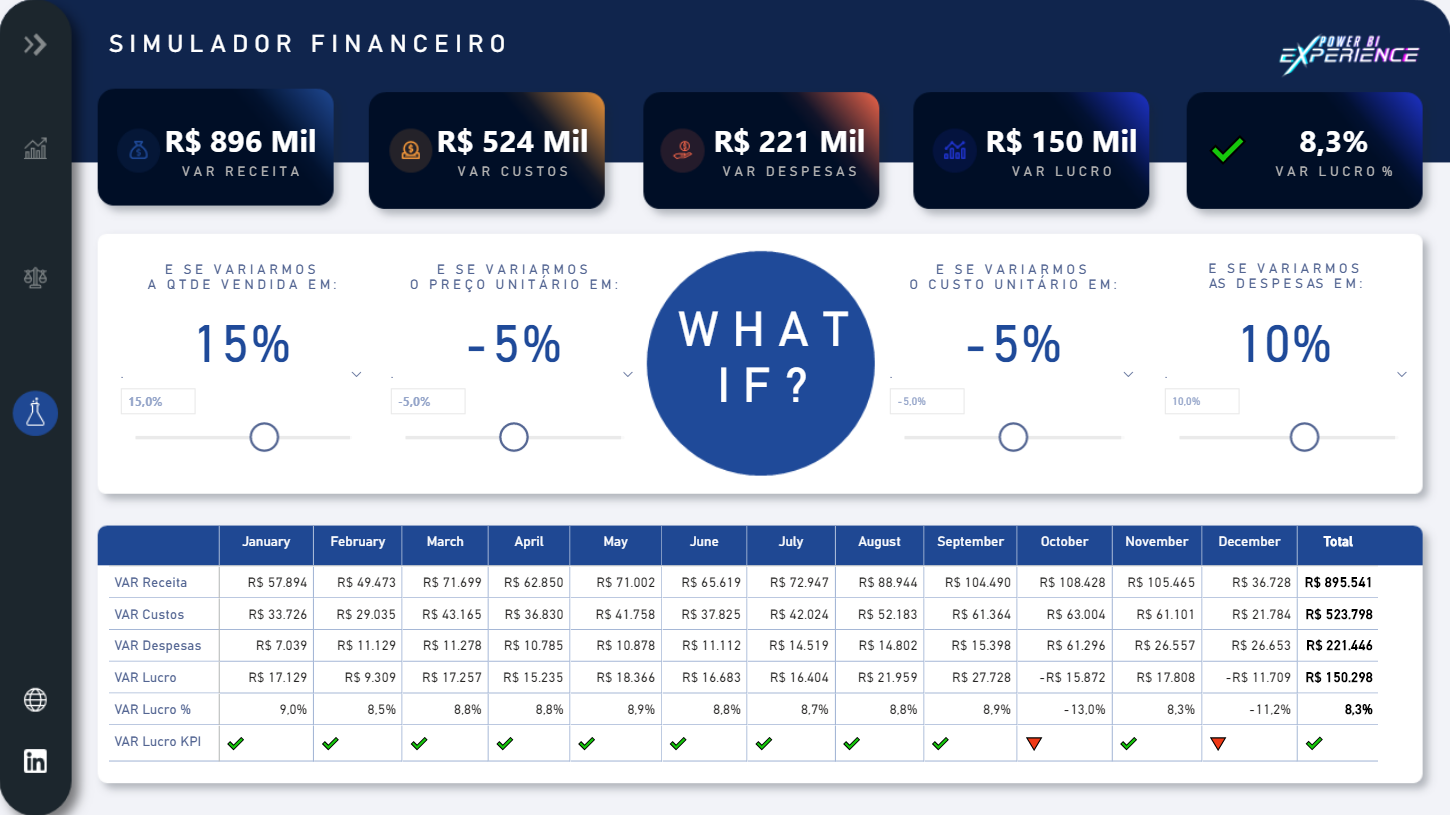

The page's visual inventory and layout, read from the dashboard file:
{"tool":"powerbi","page":{"name":"Simulador","canvas":[1280,720],"ordinal":4},"visuals":[{"type":"shape","box":[0,210.2,68.2,62.5],"z":0},{"type":"shape","box":[0,99.4,68.2,62.5],"z":1000},{"type":"pivotTable","fields":{"Values":["Simulador.Var Receita","Simulador.Var Custos","Simulador.Var Despesas","Simulador.Var Lucro","Simulador.Var Lucro %","Simulador.Var Lucro KPI"],"Columns":["dCalendario.Mês"]},"box":[85.2,460.1,1175.9,224.4],"z":2000},{"type":"card","fields":{"Values":["Simulador.Var Lucro %"]},"box":[1117.7,91,133.5,77.3],"z":3000},{"type":"card","fields":{"Values":["Simulador.Var Lucro"]},"box":[843.6,90.9,184.6,78.1],"z":4000},{"type":"card","fields":{"Values":["Simulador.Var Despesas"]},"box":[603.6,90.9,184.6,78.1],"z":5000},{"type":"card","fields":{"Values":["Simulador.Var Custos"]},"box":[357.9,90.9,184.6,78.1],"z":6000},{"type":"card","fields":{"Values":["Simulador.Var Receita"]},"box":[119.3,90.9,184.6,78.1],"z":7000},{"type":"slicer","fields":{"Values":["WIFQtde.WIFQtde"]},"box":[99.4,336.7,190,90],"z":8000},{"type":"card","fields":{"Values":["WIFQtde.WIFQtde Valor"]},"box":[126.4,267,170.4,66.7],"z":9000},{"type":"card","fields":{"Values":["WIPrecoUnit.WIPrecoUnit Valor"]},"box":[357.9,267,170.4,66.7],"z":10000},{"type":"card","fields":{"Values":["WIFCustos.WIFCustos Valor"]},"box":[805.2,265.6,170.4,66.7],"z":11000},{"type":"card","fields":{"Values":["WIFDespesas.WIFDespesas Valor"]},"box":[1053.7,267,170.4,66.7],"z":12000},{"type":"slicer","fields":{"Values":["WIPrecoUnit.WIPrecoUnit"]},"box":[350.8,336.7,190,90],"z":13000},{"type":"slicer","fields":{"Values":["WIFCustos.WIFCustos"]},"box":[822.2,336.7,190,90],"z":14000},{"type":"slicer","fields":{"Values":["WIFDespesas.WIFDespesas"]},"box":[1045.2,336,190,90],"z":15000},{"type":"card","fields":{"Values":["Simulador.Var Lucro KPI"]},"box":[1050.9,110.8,66.7,51.1],"z":16000}]}

Visuals, with their boxes on the page's 1280x720 design canvas (x1, y1, x2, y2). These are canvas units, not pixel positions in the 1450x815 screenshot, which may show the page scaled, cropped or inside an application window:
shape: l=0, t=210, r=68, b=273
shape: l=0, t=99, r=68, b=162
pivotTable - Simulador.Var Receita x Simulador.Var Custos: l=85, t=460, r=1261, b=684
card - Simulador.Var Lucro %: l=1118, t=91, r=1251, b=168
card - Simulador.Var Lucro: l=844, t=91, r=1028, b=169
card - Simulador.Var Despesas: l=604, t=91, r=788, b=169
card - Simulador.Var Custos: l=358, t=91, r=542, b=169
card - Simulador.Var Receita: l=119, t=91, r=304, b=169
slicer - WIFQtde.WIFQtde: l=99, t=337, r=289, b=427
card - WIFQtde.WIFQtde Valor: l=126, t=267, r=297, b=334
card - WIPrecoUnit.WIPrecoUnit Valor: l=358, t=267, r=528, b=334
card - WIFCustos.WIFCustos Valor: l=805, t=266, r=976, b=332
card - WIFDespesas.WIFDespesas Valor: l=1054, t=267, r=1224, b=334
slicer - WIPrecoUnit.WIPrecoUnit: l=351, t=337, r=541, b=427
slicer - WIFCustos.WIFCustos: l=822, t=337, r=1012, b=427
slicer - WIFDespesas.WIFDespesas: l=1045, t=336, r=1235, b=426
card - Simulador.Var Lucro KPI: l=1051, t=111, r=1118, b=162
